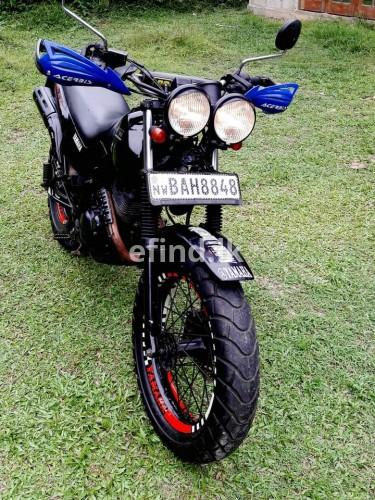motorbike: (33, 17, 303, 463)
